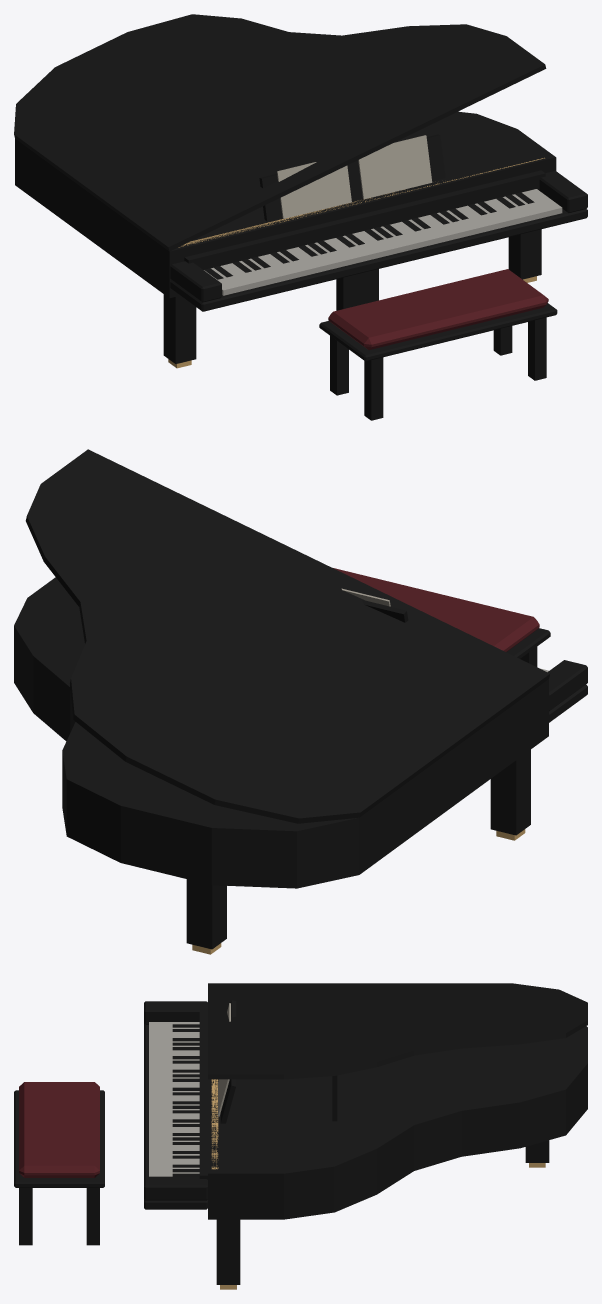
The picture shows the model from 3 angles, top to bottom: view 1: azimuth 30°, elevation 25°; view 2: azimuth 150°, elevation 25°; view 3: azimuth 270°, elevation 25°; orthographic projection. The views are drawn at different scales.
Parts seen in each view (by area): view 1: furniture_28_piano; view 2: furniture_28_piano; view 3: furniture_28_piano.
Part boxes in pixels (x1=…): furniture_28_piano: x1=14, y1=14, x2=587, y2=420; furniture_28_piano: x1=14, y1=449, x2=587, y2=954; furniture_28_piano: x1=14, y1=983, x2=587, y2=1289.
Bounding box in the file's own units: 2.58 × 1.4 × 3.37.
